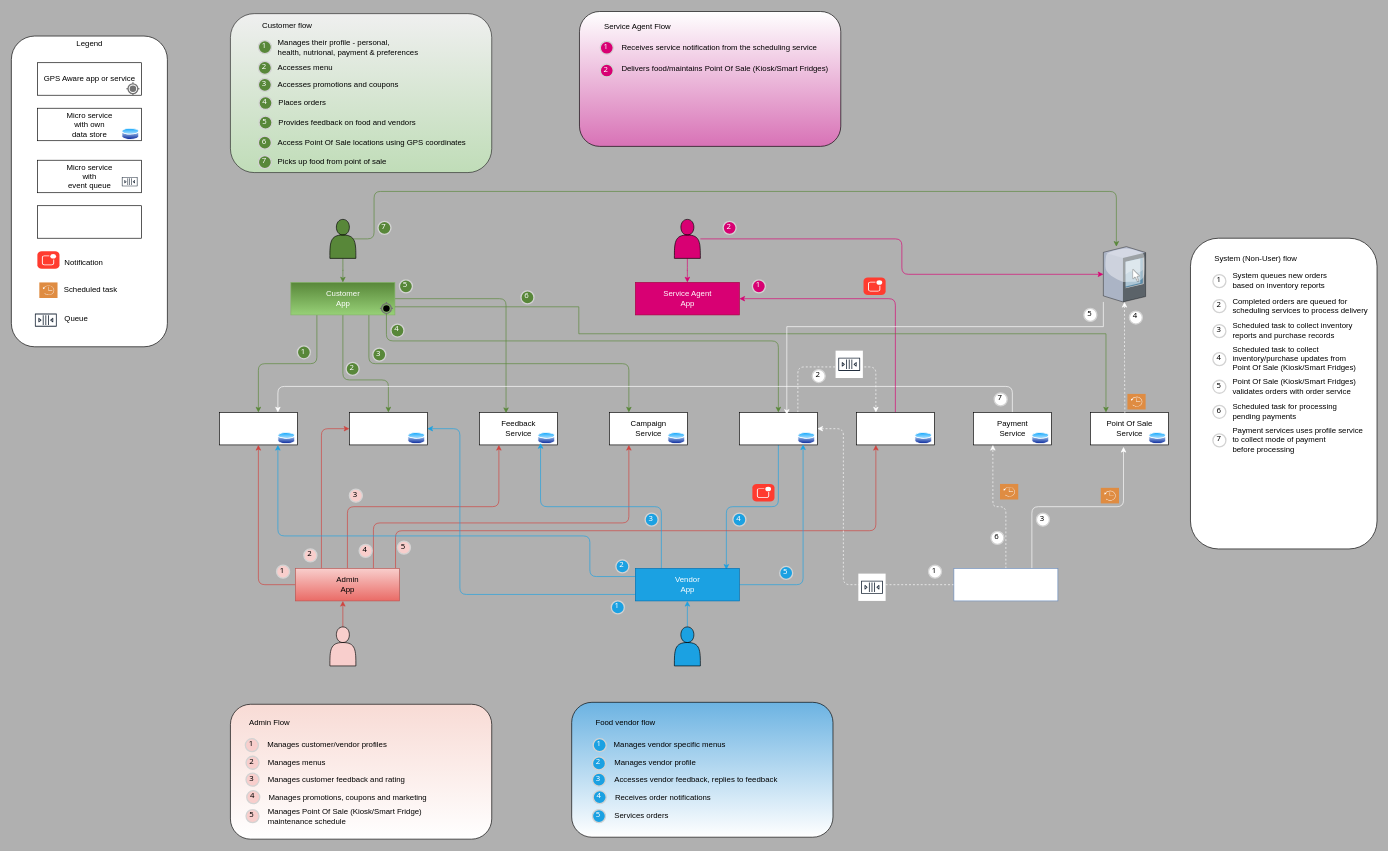
Some shapes in this 1388 by 851 pixel diagram are drawn without their labels. The shapes that lost their labels are listed below. From the top down, each one's box as (x1, y1, x2, y2) in pixels, then its label:
(37, 205, 141, 238): Stateless Application/Service
(329, 219, 356, 258): Customer
(674, 219, 700, 258): Service Agent
(1103, 246, 1145, 302): Point Of Sale
(219, 412, 297, 445): Profile Service
(349, 412, 427, 445): Menu Service
(739, 412, 817, 445): Order Service
(856, 412, 934, 445): Scheduling Service
(953, 568, 1058, 601): System
(329, 626, 356, 666): Admin Marketing
(674, 626, 700, 666): Vendor
